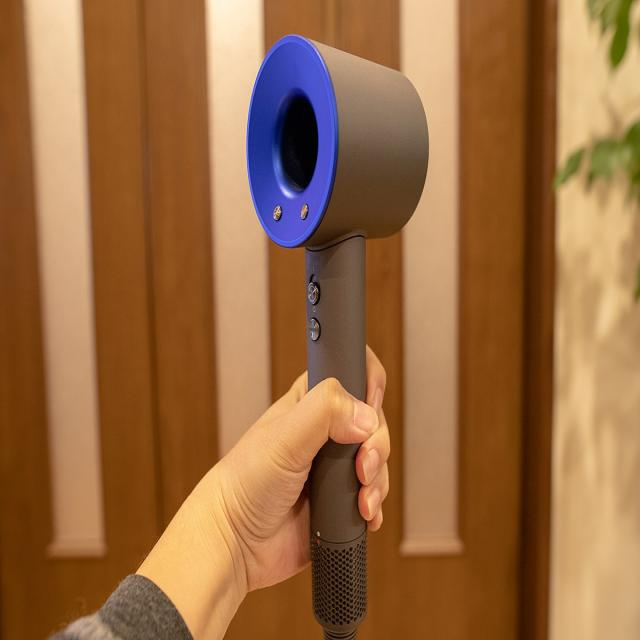dryer: (246, 34, 430, 640)
